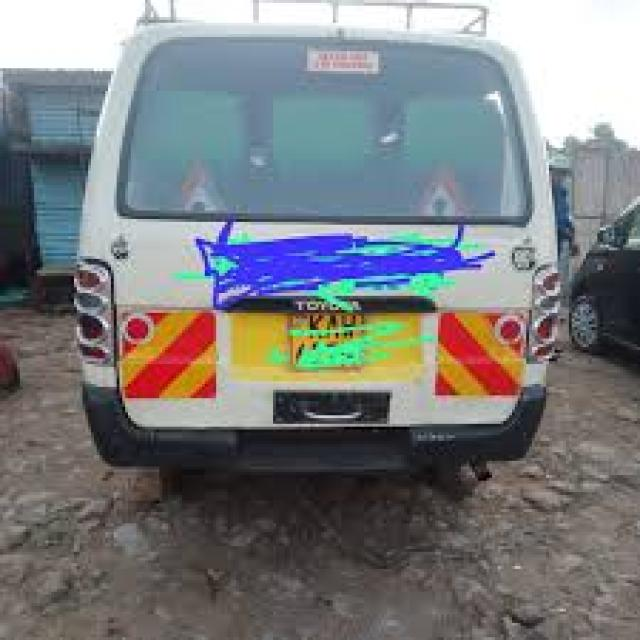matatu: (54, 6, 640, 532)
